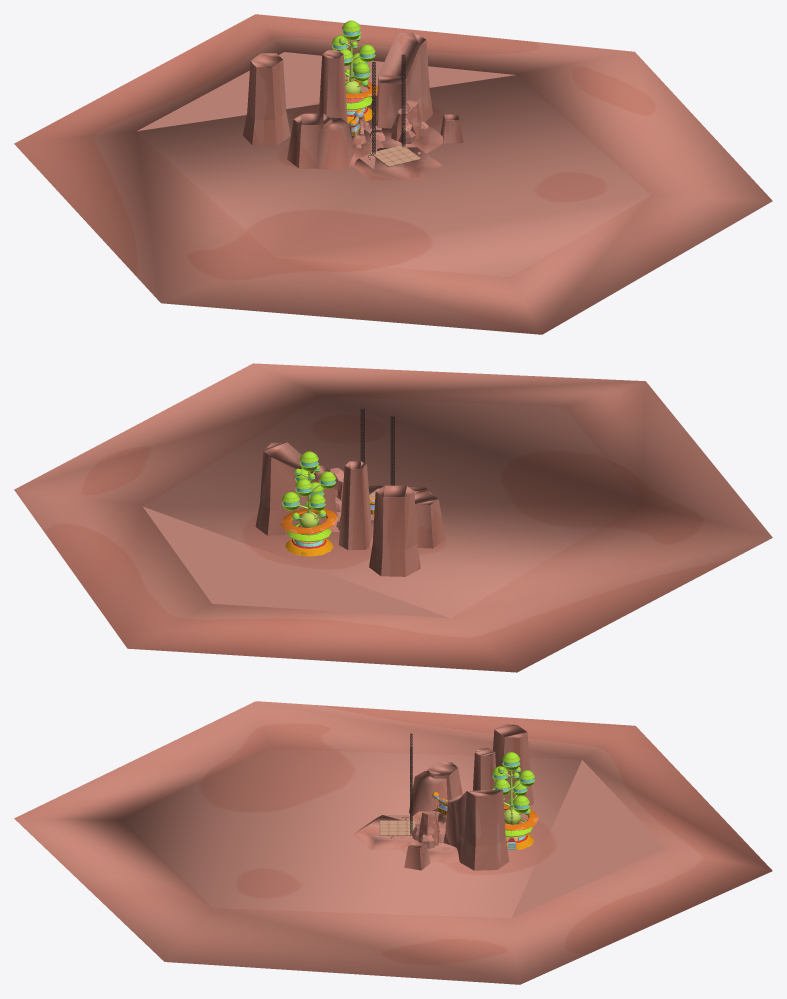
File: Background.glb
3 views of the same model, one above another, from view 1: azimuth 30°, elevation 25°; view 2: azimuth 150°, elevation 25°; view 3: azimuth 270°, elevation 25° (orthographic). The views are drawn at different scales.
Parts seen in each view (by area): view 1: brokenStone.001, brokenStone.003, GamePalace, brokenStone.002, tallStone.001, Plane; view 2: brokenStone.001, brokenStone.003, GamePalace; view 3: brokenStone.001, brokenStone.003, GamePalace, brokenStone.002, tallStone.001, Plane.
Boxes of the visible parts, <box> form: brokenStone.001: <box>14,14,772,334</box>; brokenStone.003: <box>243,32,463,168</box>; GamePalace: <box>332,20,377,123</box>; brokenStone.002: <box>316,117,366,170</box>; tallStone.001: <box>390,100,429,143</box>; Plane: <box>370,145,421,166</box>; brokenStone.001: <box>14,363,772,672</box>; brokenStone.003: <box>255,442,445,576</box>; GamePalace: <box>280,451,337,556</box>; brokenStone.001: <box>14,701,772,984</box>; brokenStone.003: <box>404,724,533,870</box>; GamePalace: <box>491,752,538,849</box>; brokenStone.002: <box>409,771,447,822</box>; tallStone.001: <box>412,811,445,848</box>; Plane: <box>379,820,415,835</box>.
Size of the model in its own units: 475 by 83.98 by 537.
6 materials, 6 textured.
